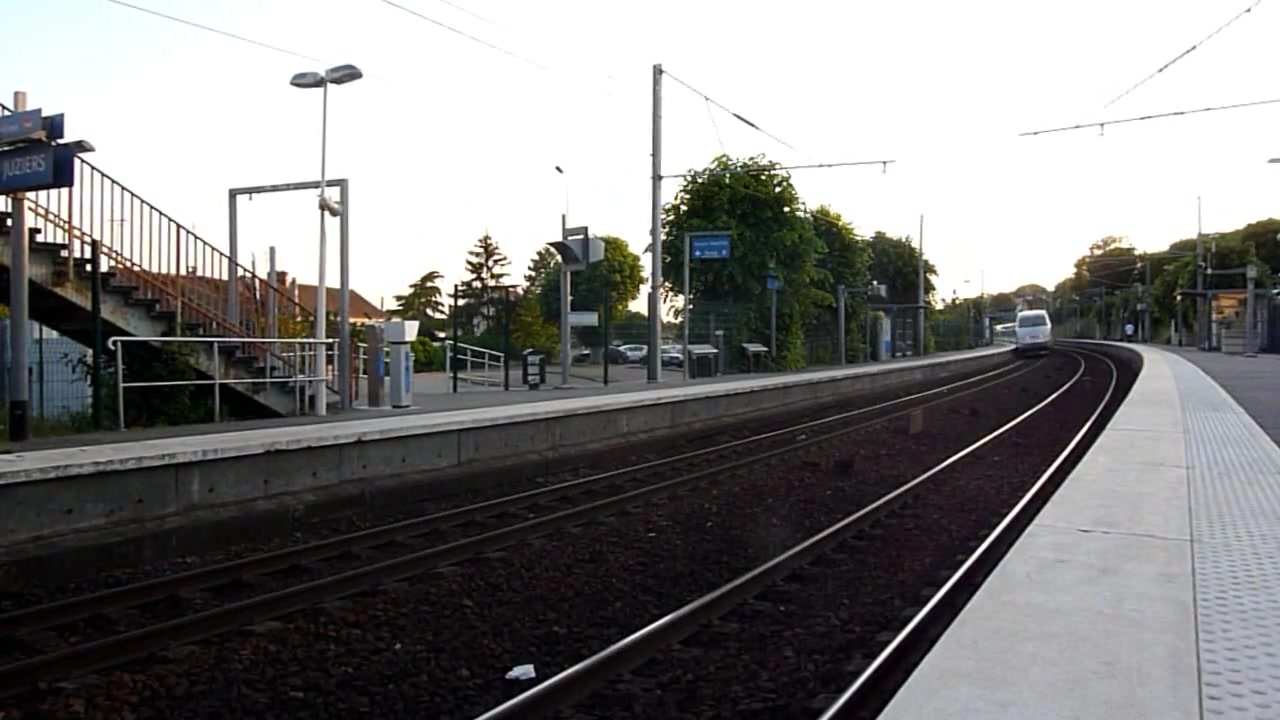train: (1009, 304, 1061, 360)
